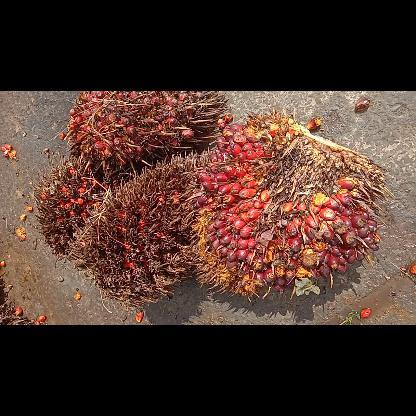TBS masak: (182, 109, 394, 301), (63, 90, 228, 174)
Terlalu masak: (69, 150, 212, 310), (30, 152, 118, 258)
